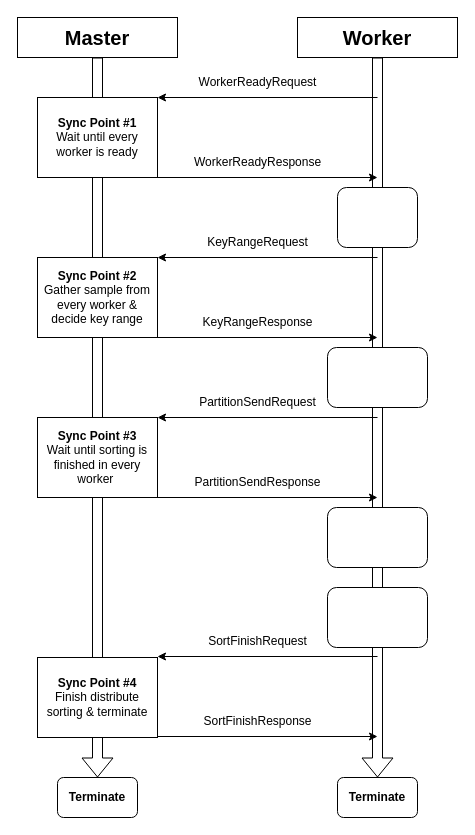
Image size: 475x835. Some labels were removed from this diagram. Each missing label, with the box of its shape:
Disk-based Merge: (326, 586, 428, 648)
Sample Blocks: (336, 186, 418, 248)
Send partition between Workers: (326, 506, 428, 568)
Sort Blocks & Divide Partition: (326, 346, 428, 408)
